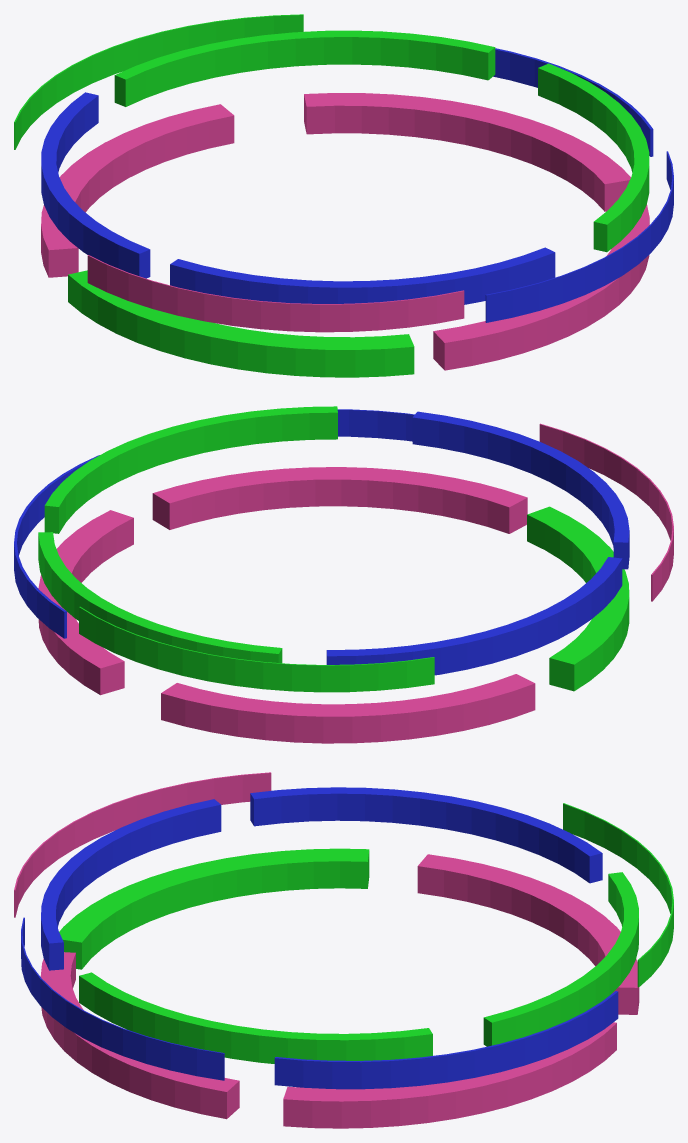
File: 3Dmeshes.glb
3 views of the same model, one above another, from view 1: azimuth 30°, elevation 25°; view 2: azimuth 150°, elevation 25°; view 3: azimuth 270°, elevation 25° (orthographic). The views are drawn at different scales.
Visible parts, largest first — view 1: Circle, Circle.001, Circle.004, Circle.011, Circle.007, Circle.003, Circle.002, Circle.009, Circle.006, Circle.005, Circle.010, Circle.012; view 2: Circle.002, Circle.003, Circle.006, Circle.009, Circle.005, Circle.007, Circle, Circle.001, Circle.004, Circle.011, Circle.012, Circle.010; view 3: Circle, Circle.001, Circle.005, Circle.006, Circle.012, Circle.003, Circle.007, Circle.002, Circle.004, Circle.011, Circle.010, Circle.009.
Part boxes in pixels (x1,y1,x2,y2): Circle: (68, 270, 414, 377); Circle.001: (304, 93, 630, 211); Circle.004: (114, 30, 495, 106); Circle.011: (87, 255, 464, 332); Circle.007: (170, 247, 555, 304); Circle.003: (41, 104, 234, 277); Circle.002: (433, 204, 649, 370); Circle.009: (14, 14, 303, 149); Circle.006: (538, 63, 649, 252); Circle.005: (41, 92, 150, 278); Circle.010: (485, 151, 673, 322); Circle.012: (493, 48, 653, 156); Circle.002: (152, 467, 527, 533); Circle.003: (161, 674, 535, 743); Circle.006: (44, 406, 337, 533); Circle.009: (79, 606, 434, 692); Circle.005: (326, 557, 622, 675); Circle.007: (412, 411, 629, 569); Circle: (527, 506, 629, 691); Circle.001: (38, 510, 133, 695); Circle.004: (38, 532, 282, 663); Circle.011: (539, 423, 673, 601); Circle.012: (14, 455, 99, 638); Circle.010: (337, 409, 414, 441); Circle: (59, 848, 369, 969); Circle.001: (283, 1022, 616, 1128); Circle.005: (250, 787, 602, 883); Circle.006: (79, 972, 432, 1063); Circle.012: (274, 991, 618, 1089); Circle.003: (417, 854, 639, 1014); Circle.007: (41, 799, 221, 970); Circle.002: (40, 952, 239, 1119); Circle.004: (483, 872, 638, 1046); Circle.011: (14, 772, 271, 917); Circle.010: (21, 917, 224, 1080); Circle.009: (563, 803, 673, 987).
Bounding box in the file's own units: 21.86 × 3.5 × 22.06.
